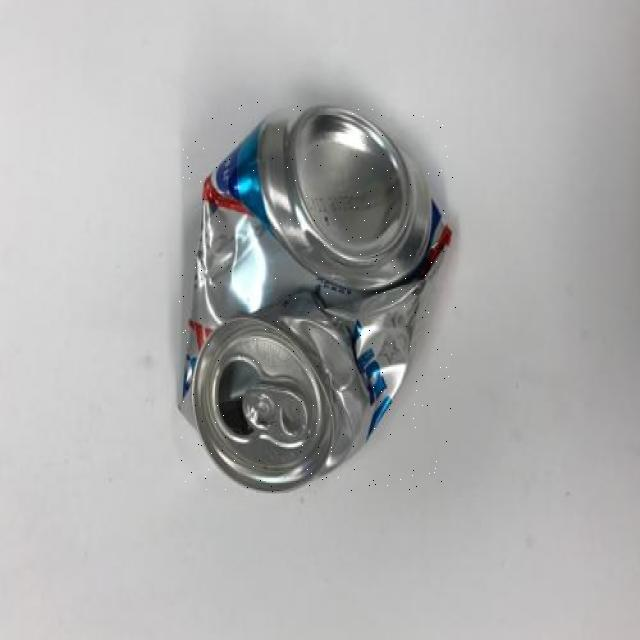metal: (179, 101, 457, 492)
